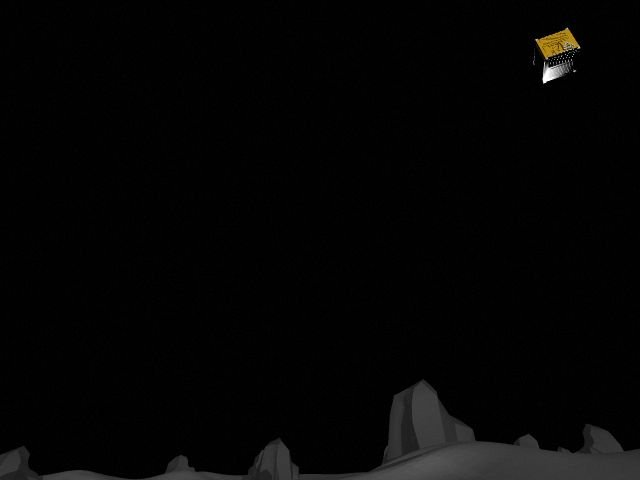cubesat: (531, 23, 582, 87)
